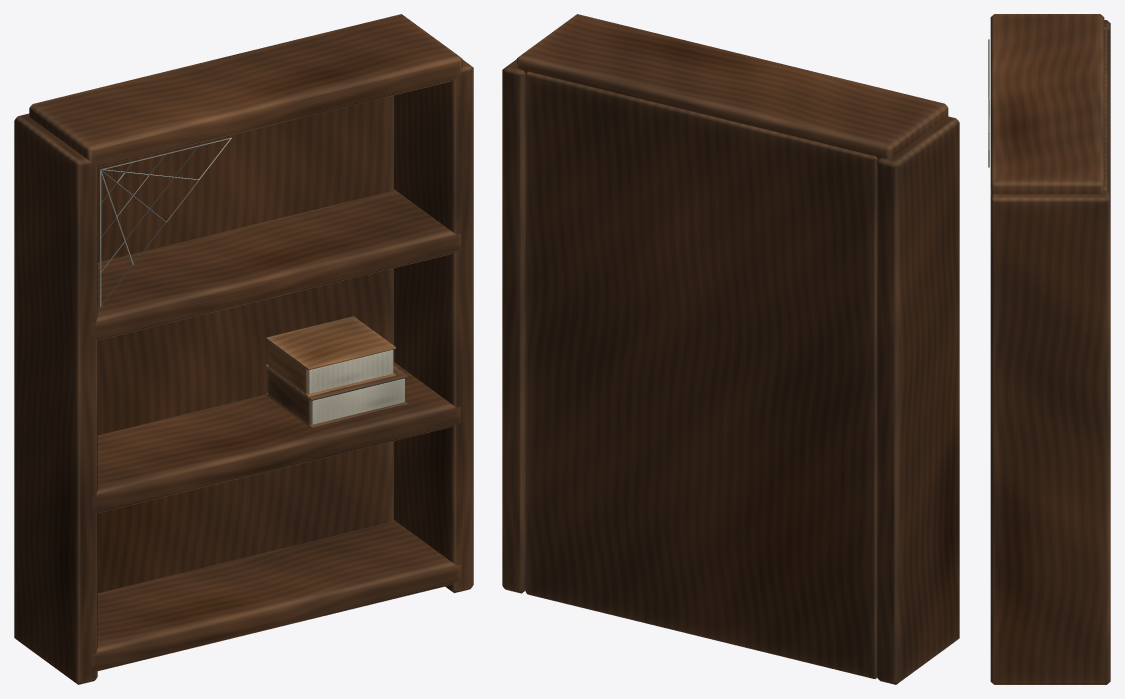
Rendered from Furn_Vacant_CobwebShelf.fbx.
The picture shows the model from 3 angles, left to right: view 1: azimuth 30°, elevation 25°; view 2: azimuth 150°, elevation 25°; view 3: azimuth 270°, elevation 25°; orthographic projection. The views are drawn at different scales.
Visible parts, largest first — view 1: Furn_Vacant_CobwebShelf; view 2: Furn_Vacant_CobwebShelf; view 3: Furn_Vacant_CobwebShelf.
Part boxes in pixels (x1,y1,x2,y2): Furn_Vacant_CobwebShelf: (14, 14, 473, 684); Furn_Vacant_CobwebShelf: (502, 14, 959, 684); Furn_Vacant_CobwebShelf: (988, 14, 1110, 684).
Size of the model in its own units: 1.4 by 1.8 by 0.4.
4 materials, 4 textured.
